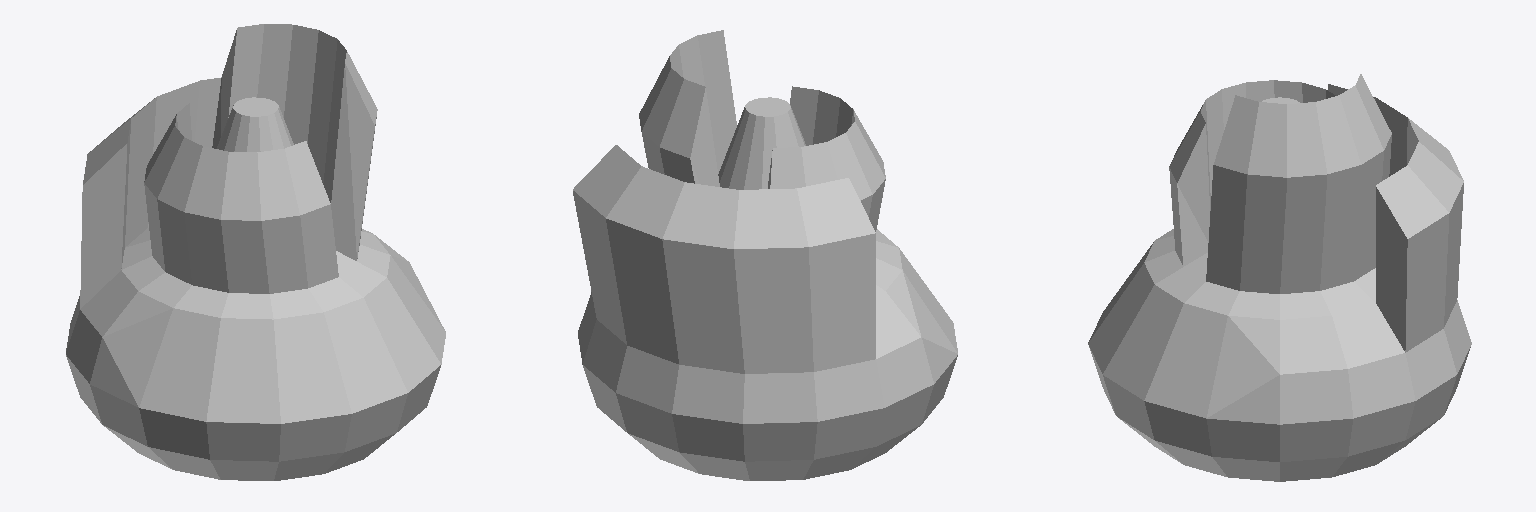
Rendered from lettuce-eat2.obj.
3 renders of one model, left to right at view 1: azimuth 30°, elevation 25°; view 2: azimuth 150°, elevation 25°; view 3: azimuth 270°, elevation 25°, orthographic.
Parts seen in each view (by area): view 1: sphere1; view 2: sphere1; view 3: sphere1.
Boxes of the visible parts, <box> form: sphere1: <box>66,24,445,480</box>; sphere1: <box>573,30,957,480</box>; sphere1: <box>1088,74,1471,481</box>.
Bounding box in the file's own units: 2 × 2.22 × 2.